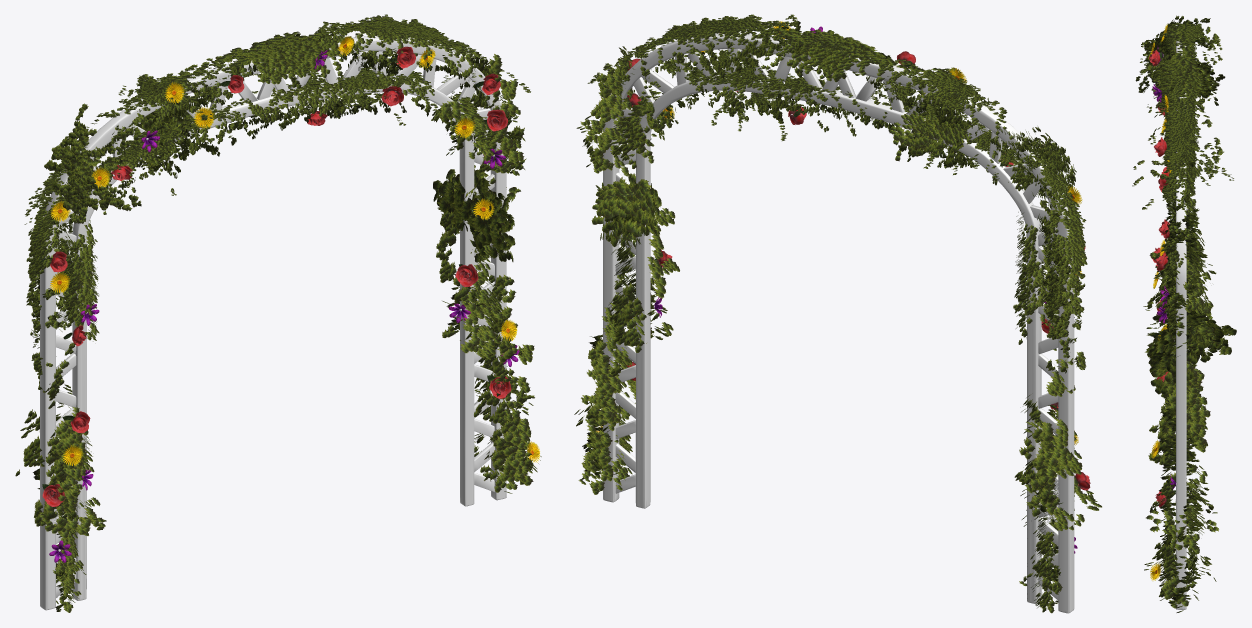
The model's file is flower_arch.glb.
The picture shows the model from 3 angles, left to right: view 1: azimuth 30°, elevation 25°; view 2: azimuth 150°, elevation 25°; view 3: azimuth 270°, elevation 25°; orthographic projection. The views are drawn at different scales.
Size of the model in its own units: 2.45 by 2.4 by 0.5047.
6 materials, 5 textured.
